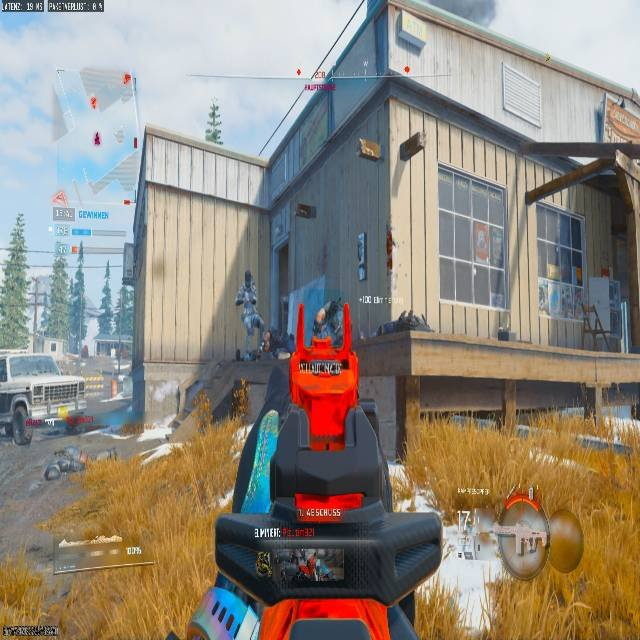head: (243, 274, 254, 288)
player: (234, 270, 268, 355)
